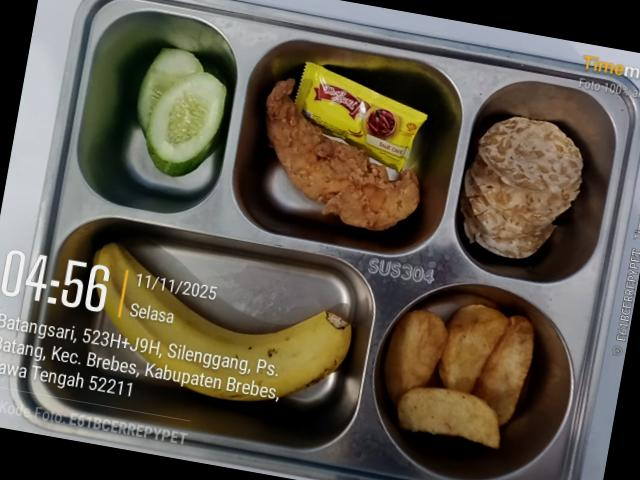ayam: (265, 79, 419, 230)
buah: (95, 243, 351, 400)
kentang: (382, 304, 534, 448)
sayur: (265, 79, 419, 230), (137, 48, 226, 175)
tempe: (460, 116, 582, 258)
